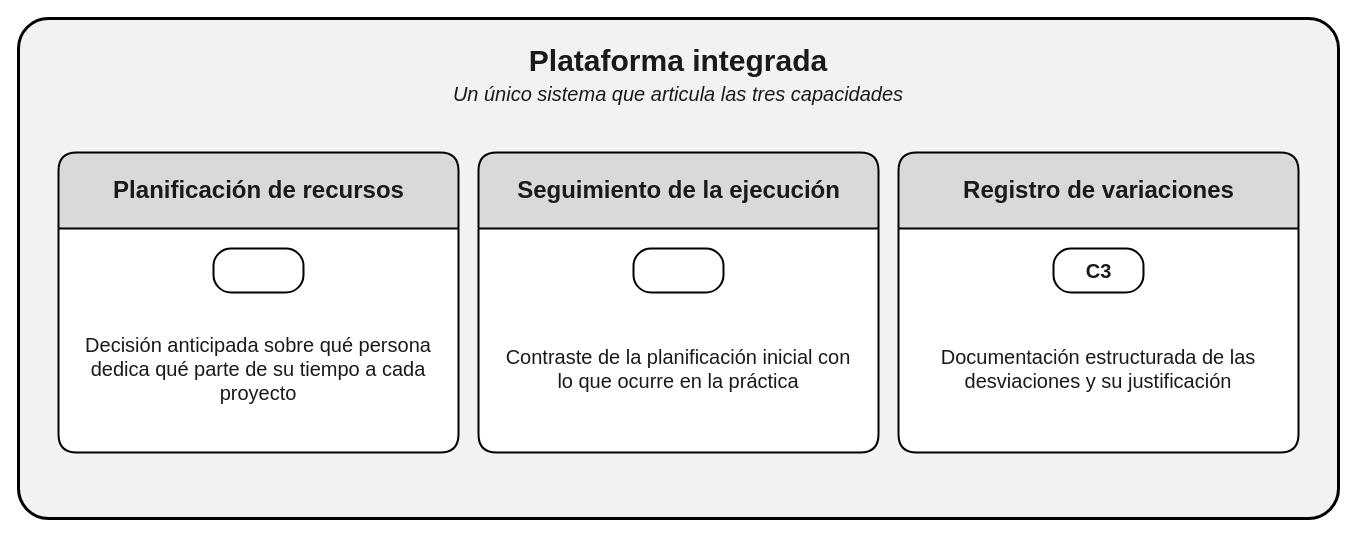
This 1357x537 diagram has some shape labels left out. Here are the shapes that lost their labels. From the top down, the centre of each, then its label:
point 258,270: C1
point 678,270: C2
